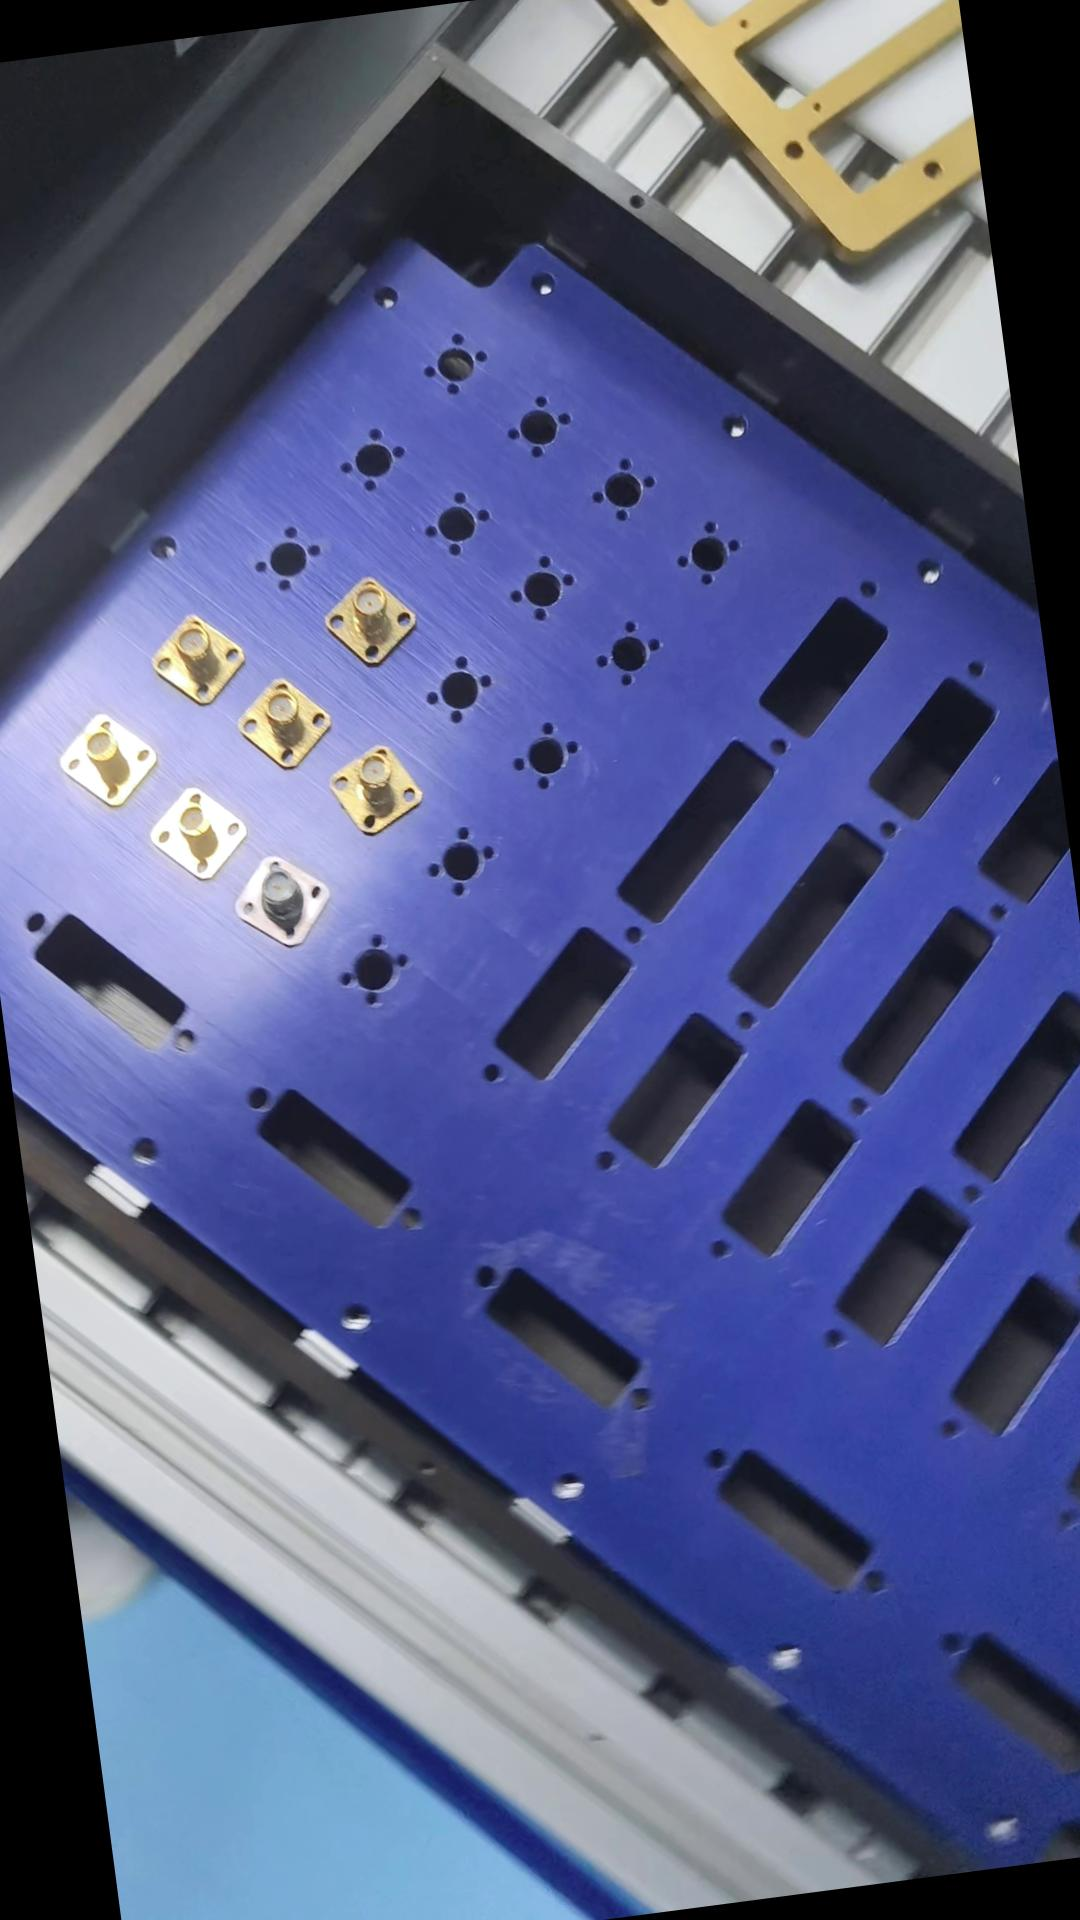SMA: (53, 704, 164, 812), (237, 669, 342, 775), (229, 843, 338, 945), (148, 781, 256, 880), (146, 608, 251, 709), (327, 737, 430, 837), (320, 568, 422, 666)
